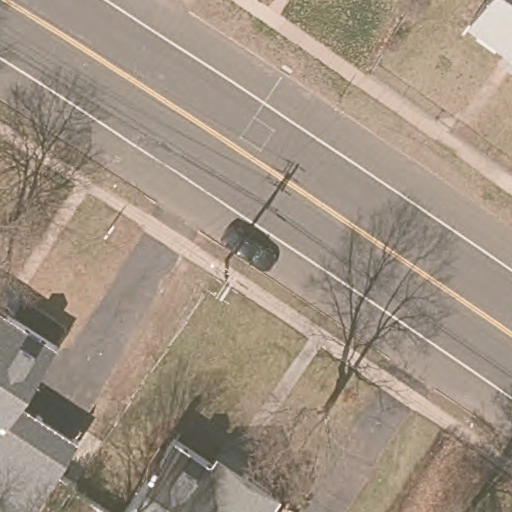DT: (206, 256, 245, 305)
